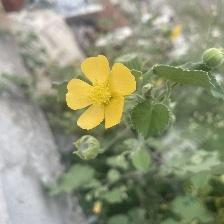indian mallow: (64, 55, 139, 131)
